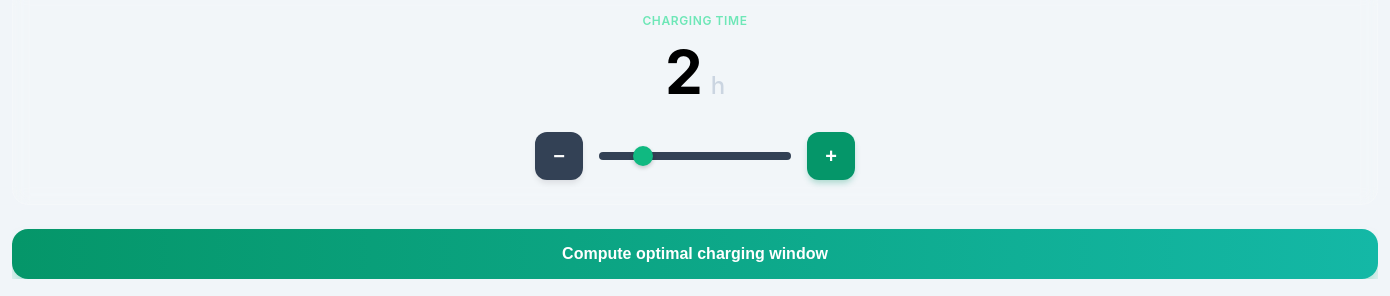
Test: ChargingForm › should decrease hours when - button is clicked
The image size is (1390, 296).
Set the slider to "3" at {"x": 677, "y": 156}, box [599,152,791,160]
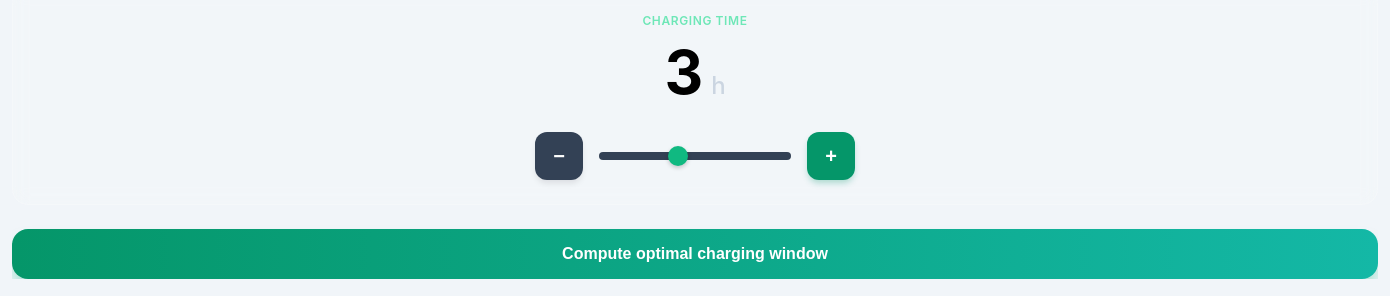
Click the button "−".
click(559, 156)  # box [535,132,583,180]
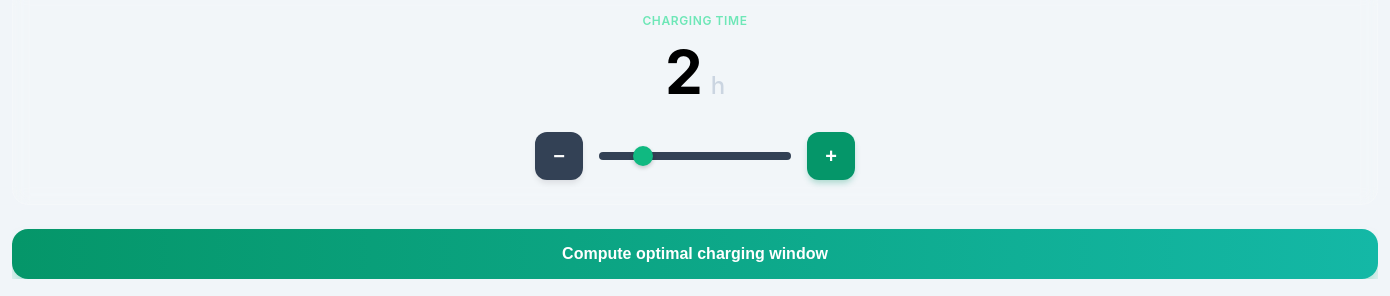
Expected: the text "2" is shown, [665,36,703,108]
